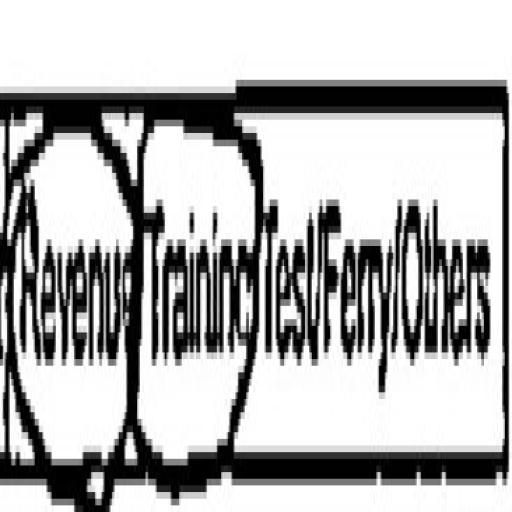check: (0, 13, 136, 512), (139, 23, 256, 512)
